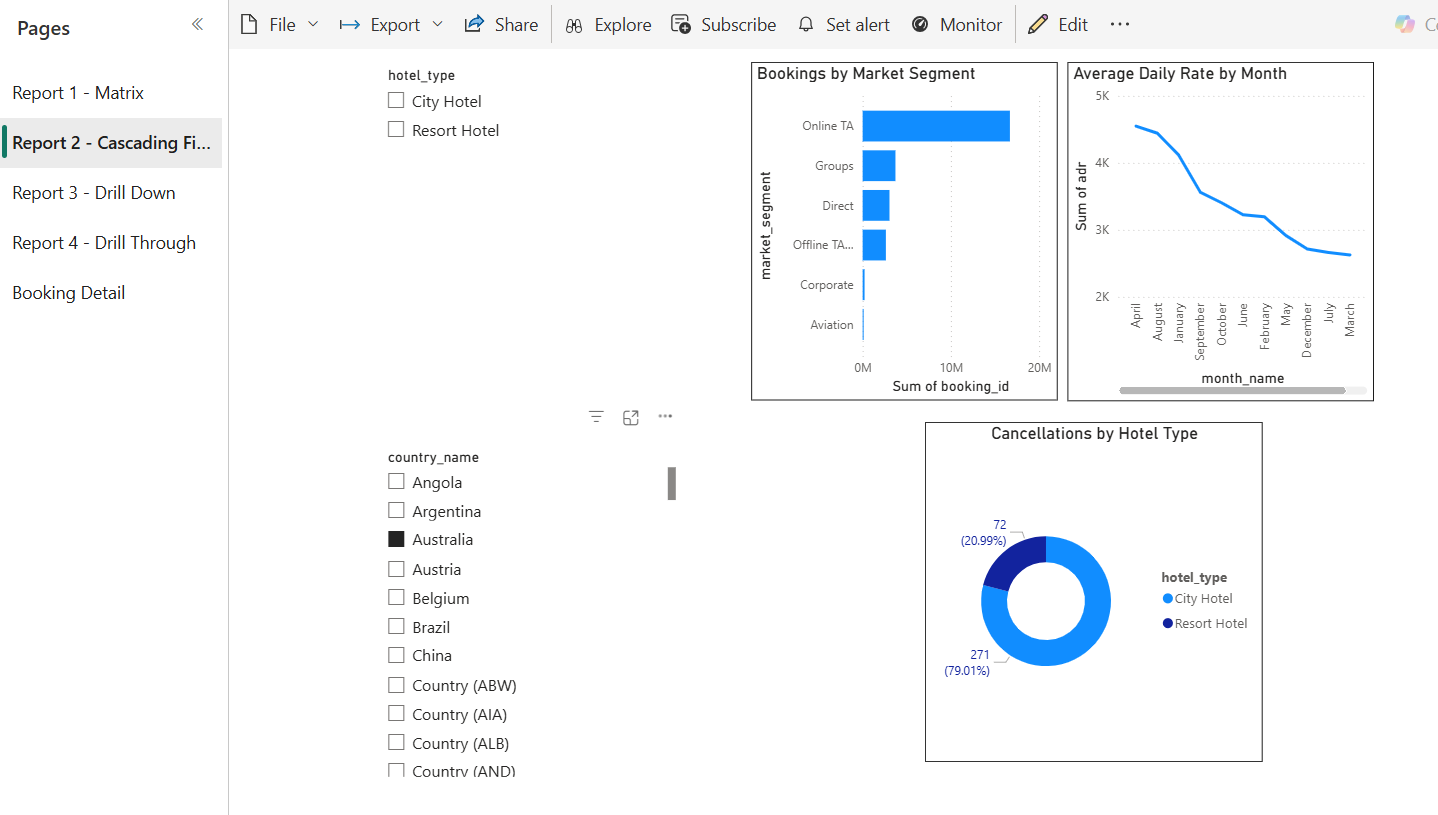

This screenshot's page, from the dashboard's own definition file:
{"tool":"powerbi","page":{"name":"Report 2 - Cascading Filters","canvas":[1280,720],"ordinal":1},"visuals":[{"type":"slicer","fields":{"Values":["dim_customer.country_name"]},"box":[10,381.1,305.6,338.9],"z":0},{"type":"slicer","fields":{"Values":["dim_hotel.hotel_type"]},"box":[10,0,306,339],"z":1000},{"type":"clusteredBarChart","title":"Bookings by Market Segment","fields":{"Category":["dim_market.market_segment"],"Y":["Sum(fact_bookings.booking_id)"]},"box":[386.2,0,306.2,338.8],"z":2000},{"type":"lineChart","title":"Average Daily Rate by Month","fields":{"Category":["dim_date.month_name"],"Y":["Sum(fact_bookings.adr)"]},"box":[702,0,306,339],"z":3000},{"type":"donutChart","title":"Cancellations by Hotel Type","fields":{"Y":["CountNonNull(fact_bookings.is_canceled)"],"Category":["dim_hotel.hotel_type"]},"box":[560,360,337.8,340],"z":4000}]}

Visuals, with their boxes on the page's 1280x720 design canvas (x1, y1, x2, y2). These are canvas units, not pixel positions in the 1438x815 screenshot, which may show the page scaled, cropped or inside an application window:
slicer - dim_customer.country_name: [10, 381, 316, 720]
slicer - dim_hotel.hotel_type: [10, 0, 316, 339]
"Bookings by Market Segment" clusteredBarChart: [386, 0, 692, 339]
"Average Daily Rate by Month" lineChart: [702, 0, 1008, 339]
"Cancellations by Hotel Type" donutChart: [560, 360, 898, 700]
